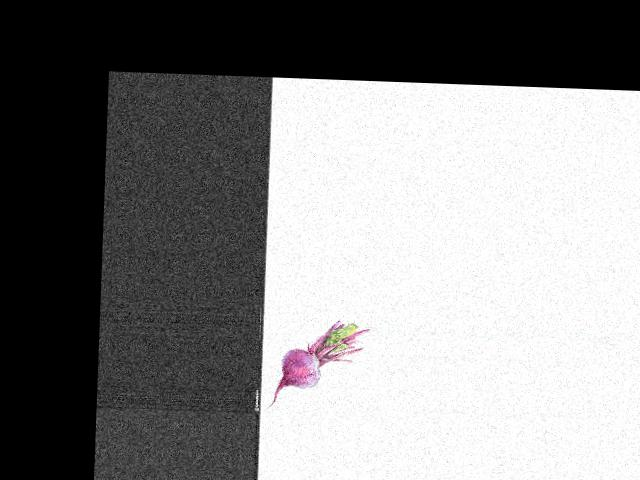beet: (265, 317, 371, 413)
